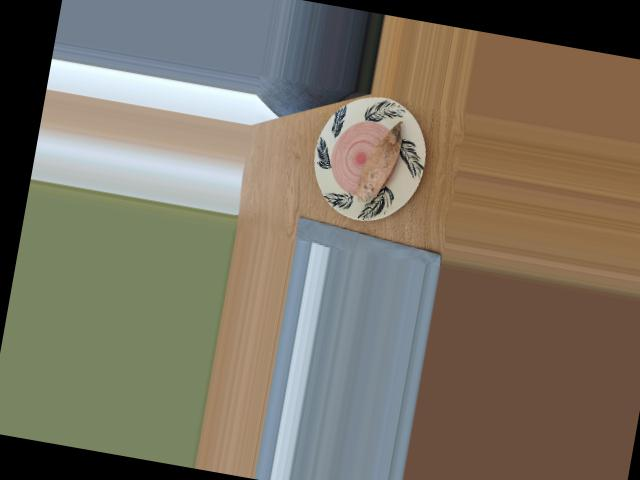sweet_potato: (350, 122, 410, 205)
